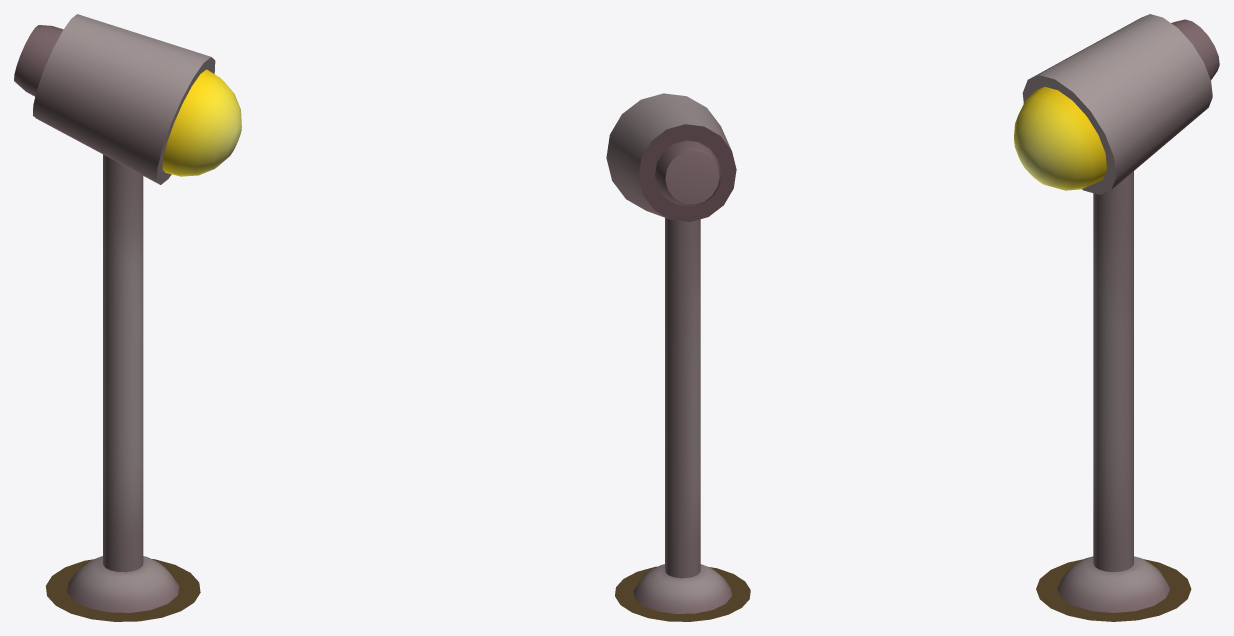
File: Mu_LightStand.fbx
3 views of the same model, side by side, from view 1: azimuth 30°, elevation 25°; view 2: azimuth 150°, elevation 25°; view 3: azimuth 270°, elevation 25° (orthographic). The views are drawn at different scales.
Visible parts, largest first — view 1: Mu_LightStand, Mu_LightStand_shadow; view 2: Mu_LightStand, Mu_LightStand_shadow; view 3: Mu_LightStand, Mu_LightStand_shadow.
Boxes of the visible parts, left/top/right/bottom form: Mu_LightStand: left=14, top=14, right=241, bottom=612; Mu_LightStand_shadow: left=46, top=559, right=200, bottom=621; Mu_LightStand: left=606, top=93, right=736, bottom=613; Mu_LightStand_shadow: left=615, top=566, right=750, bottom=621; Mu_LightStand: left=1014, top=14, right=1219, bottom=612; Mu_LightStand_shadow: left=1036, top=559, right=1191, bottom=621.
Size of the model in its own units: 194 by 298 by 213.
2 materials, 1 textured.
